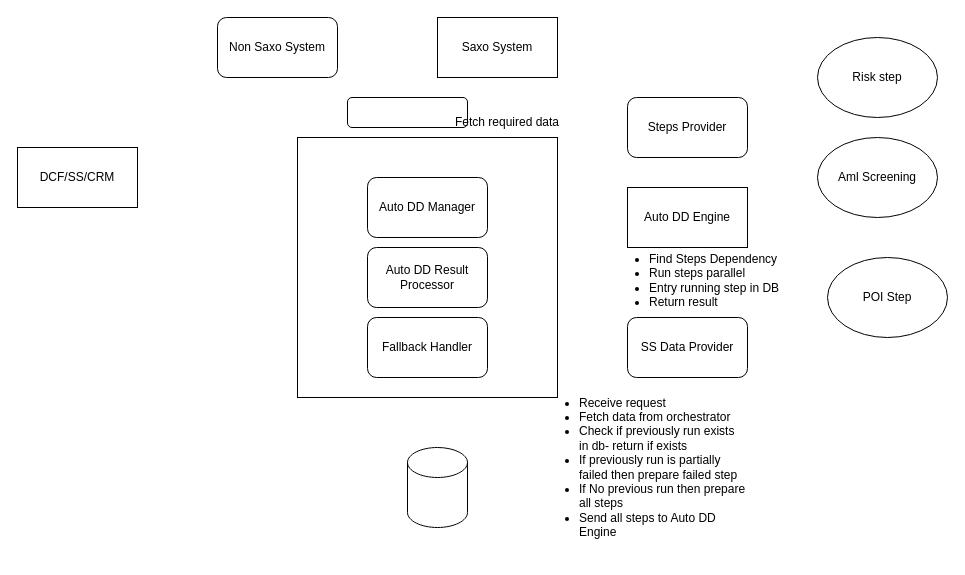
Image size: 965x575. Some labels were removed from this diagram. Here are the shapes that lost their labels. From the top down, the box of each, then its label:
(346, 96, 468, 128): Data Orchestrator
(406, 446, 468, 528): SS DB
